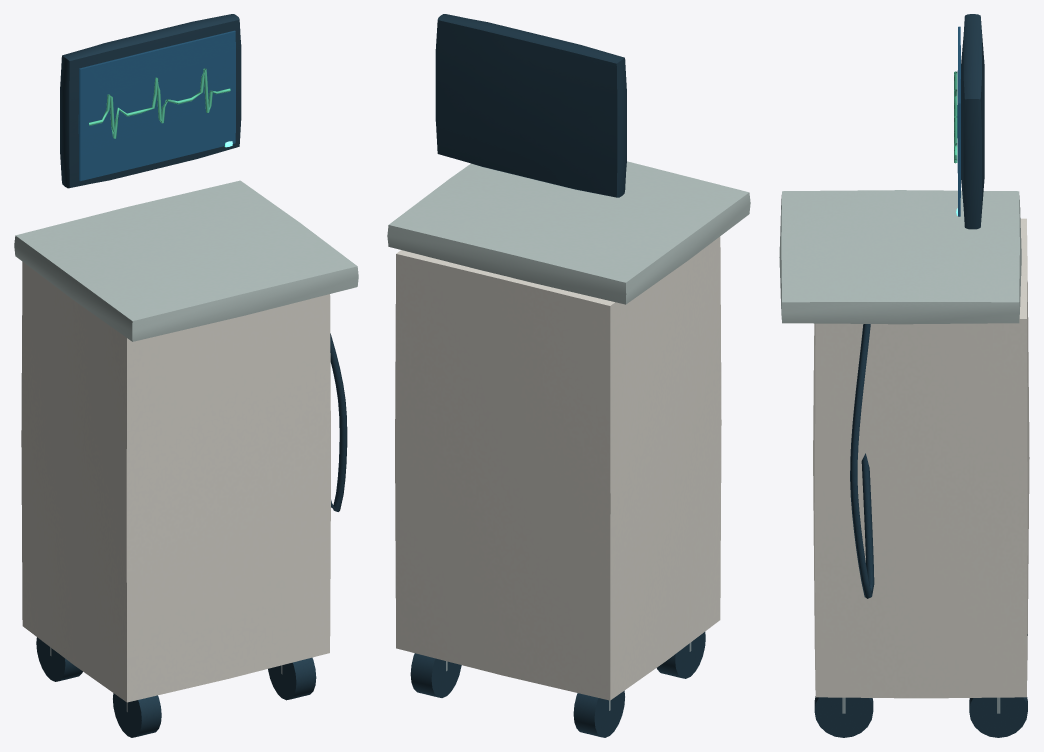
The model's file is ultrasound.glb.
3 views of the same model, side by side, from view 1: azimuth 30°, elevation 25°; view 2: azimuth 150°, elevation 25°; view 3: azimuth 270°, elevation 25° (orthographic). The views are drawn at different scales.
Visible parts, largest first — view 1: ultrasound; view 2: ultrasound; view 3: ultrasound.
Part boxes in pixels (box(x1,y1,x2,y2)): ultrasound: box(14, 14, 358, 737); ultrasound: box(387, 14, 750, 737); ultrasound: box(779, 14, 1029, 737).
Size of the model in its own units: 0.576 by 1.37 by 0.485.
Materials: 15 (15 with a texture image).
